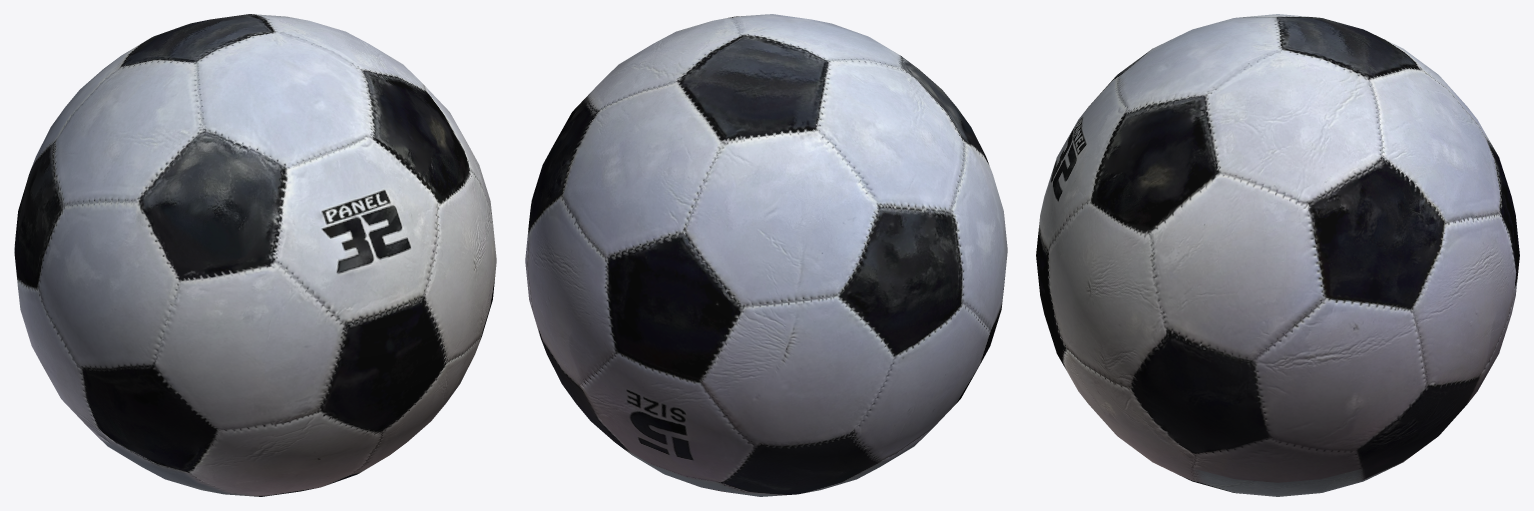
File: balon_football.glb
The picture shows the model from 3 angles, left to right: view 1: azimuth 30°, elevation 25°; view 2: azimuth 150°, elevation 25°; view 3: azimuth 270°, elevation 25°; orthographic projection.
Visible parts, largest first — view 1: Object_2; view 2: Object_2; view 3: Object_2.
Boxes of the visible parts, x1=… form: Object_2: x1=14, y1=14, x2=496, y2=496; Object_2: x1=525, y1=14, x2=1007, y2=496; Object_2: x1=1036, y1=14, x2=1519, y2=496.
Size of the model in its own units: 0.6272 by 0.6272 by 0.6272.
1 material, 1 textured.
